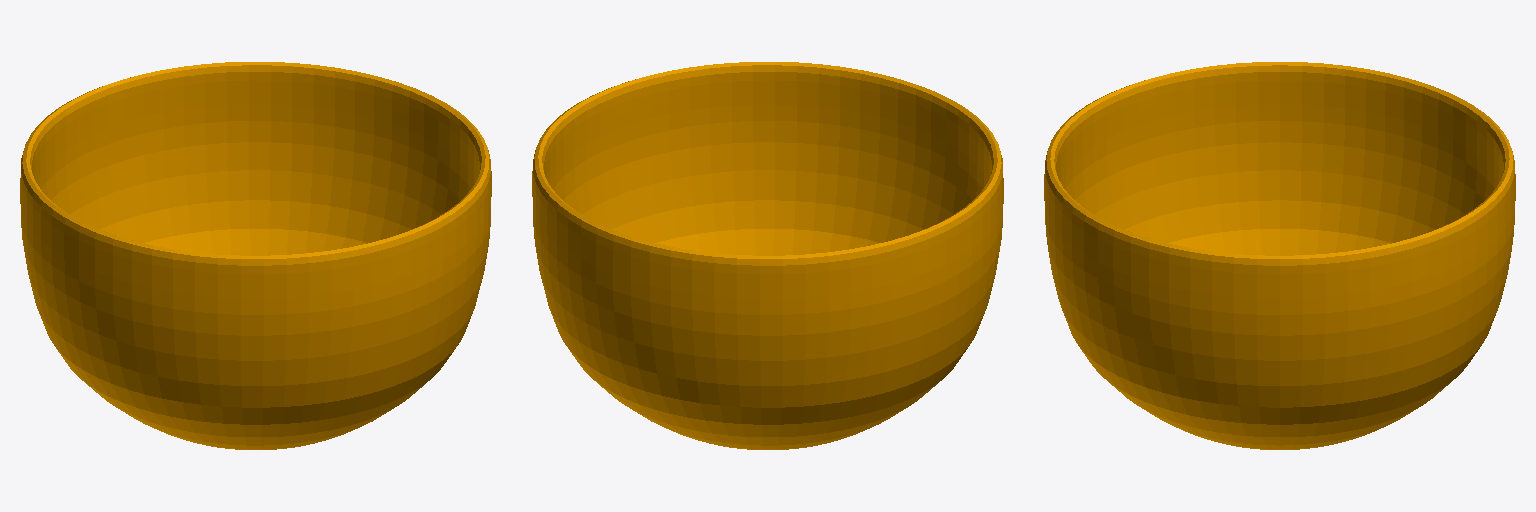
robot.urdf — bowl:
<?xml version="1.0"?>
<robot name="bowl">

  <link concave="yes" name="bowl">
    <visual>
      <geometry>
        <mesh filename="package://bowl/bowl4.dae" scale=".1 .1 .1"/>
      </geometry>
    </visual>
    <collision>
      <geometry>
        <mesh filename="package://bowl/bowl4.stl" scale=".1 .1 .1"/>
      </geometry>
    </collision>
  </link>

</robot>

--- Facts derived from the render (not from the file) ---
Views: 3 orthographic renders of the robot side by side, from view 1: azimuth 30°, elevation 25°; view 2: azimuth 150°, elevation 25°; view 3: azimuth 270°, elevation 25°.
Robot: bowl — 1 links, 0 joints (none); root link bowl; default pose: every joint at zero.
Visible links, largest first — view 1: bowl; view 2: bowl; view 3: bowl.
Boxes of the visible links, box(x1,y1,x2,y2) form: bowl: box(20, 62, 491, 449); bowl: box(532, 62, 1003, 449); bowl: box(1044, 62, 1515, 449).
Bounding box of the posed robot: 0.8997 × 0.8997 × 0.5236 m (x, y, z).
1 mesh visuals loaded from 1 distinct referenced files (1 Collada DAE).